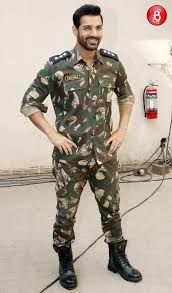uniform: (44, 47, 128, 262)
